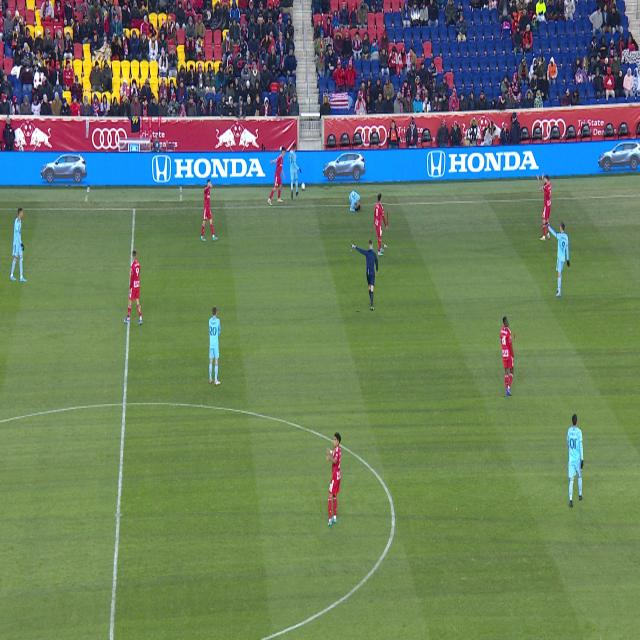player: (545, 222, 570, 297), (567, 414, 584, 508), (326, 432, 341, 526), (124, 250, 142, 324), (10, 207, 26, 281), (501, 316, 514, 396), (201, 180, 218, 241), (537, 173, 552, 242), (209, 307, 220, 385), (375, 194, 387, 256), (349, 190, 360, 212), (547, 227, 550, 239)
referee: (352, 240, 378, 311)
